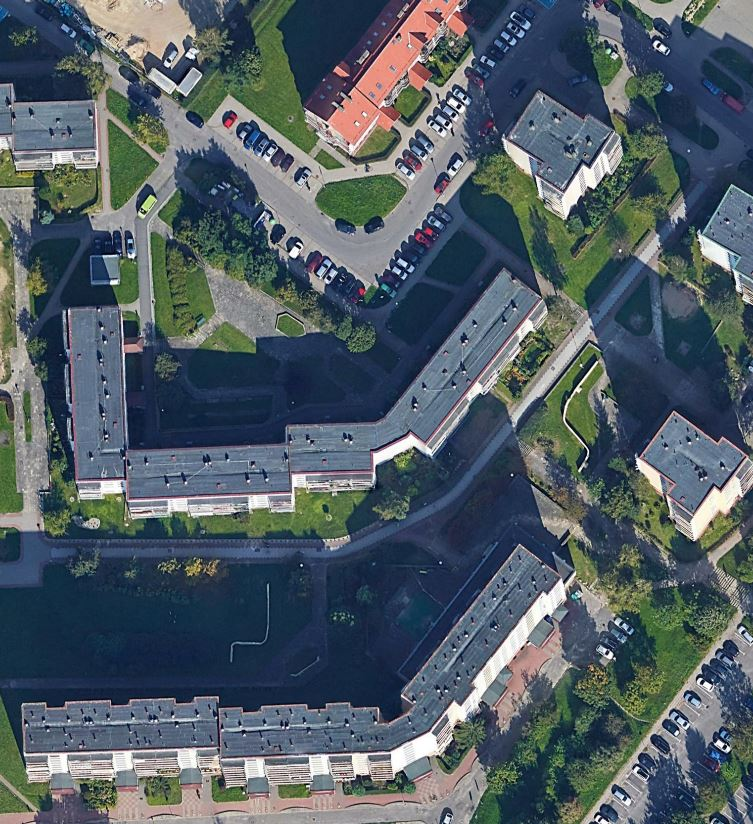block of flats: (10, 530, 573, 806), (52, 262, 553, 526), (296, 1, 484, 161), (492, 84, 629, 227), (628, 401, 753, 550), (1, 72, 103, 183), (694, 159, 753, 319)
